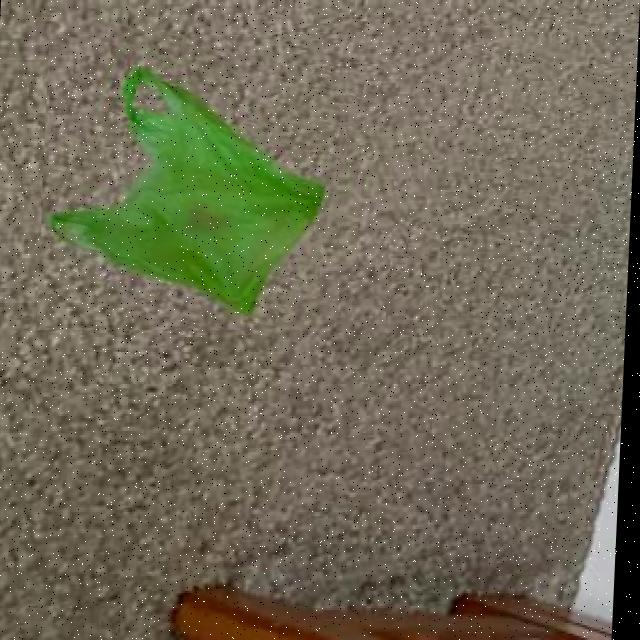plasticcover: (38, 33, 355, 330)
